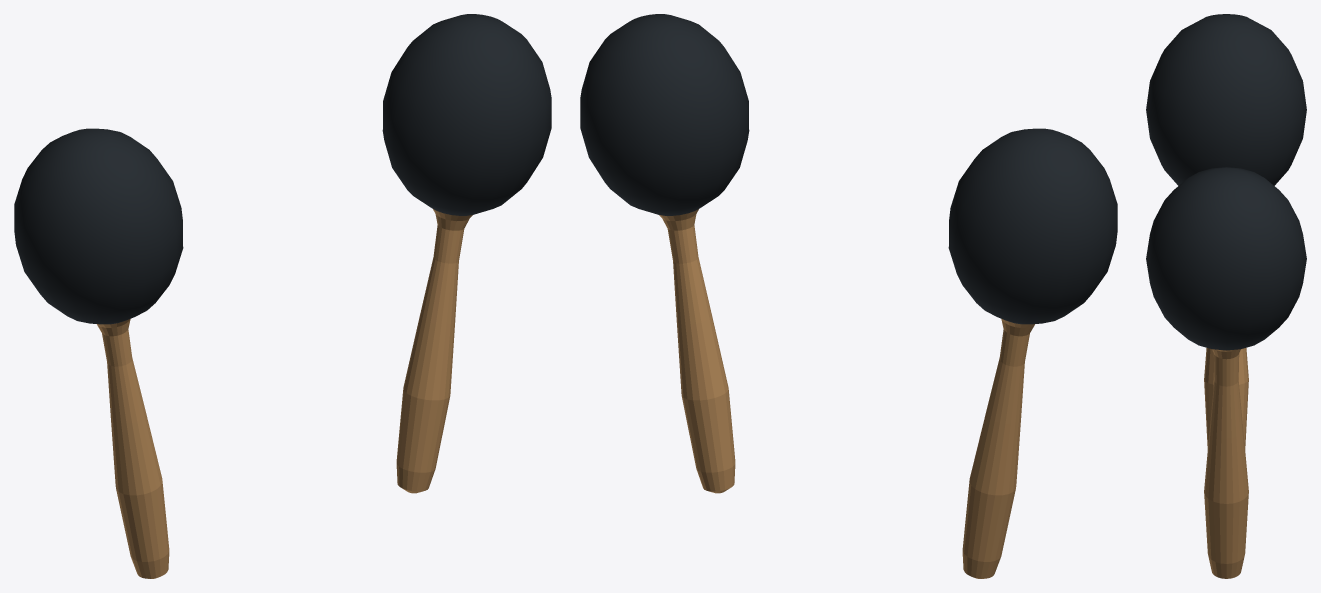
File: A-NEW-20261026-MARACAS-PAIR-001_LOD2_R1.fbx
3 renders of one model, left to right at view 1: azimuth 30°, elevation 25°; view 2: azimuth 150°, elevation 25°; view 3: azimuth 270°, elevation 25°, orthographic. The views are drawn at different scales.
Parts seen in each view (by area): view 1: right closed oval head, left closed oval head, right shaped wooden handle, left shaped wooden handle; view 2: right closed oval head, left closed oval head, right shaped wooden handle, left shaped wooden handle; view 3: right closed oval head, left closed oval head, right shaped wooden handle, left shaped wooden handle.
Part boxes in pixels (x1,y1,x2,y2): right closed oval head: [382, 14, 551, 215]; left closed oval head: [14, 128, 183, 324]; right shaped wooden handle: [396, 225, 464, 493]; left shaped wooden handle: [102, 329, 169, 578]; right closed oval head: [580, 14, 749, 215]; left closed oval head: [948, 128, 1117, 324]; right shaped wooden handle: [667, 225, 735, 493]; left shaped wooden handle: [962, 329, 1029, 578]; right closed oval head: [1146, 167, 1306, 350]; left closed oval head: [1146, 14, 1306, 185]; right shaped wooden handle: [1204, 354, 1248, 578]; left shaped wooden handle: [1204, 348, 1248, 449].
Size of the model in its own units: 29.99 by 26.53 by 8.6.
